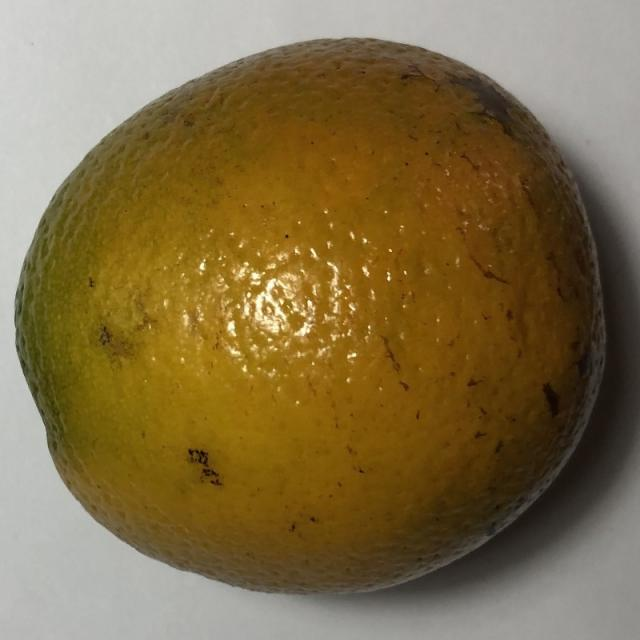blackspot: (11, 16, 616, 596)
